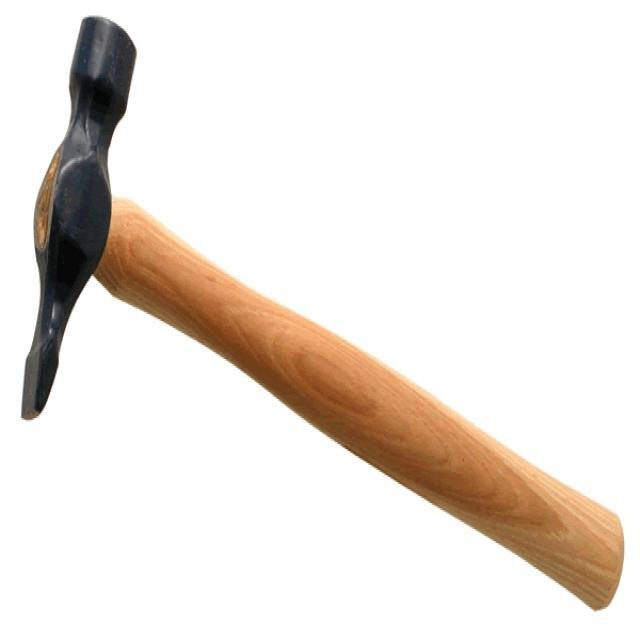hammer: (14, 8, 630, 616)
